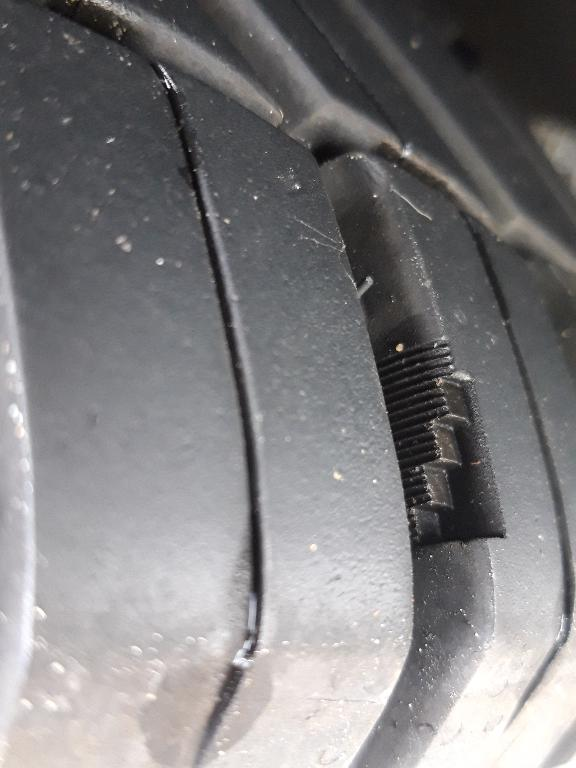temoin:90: (368, 331, 517, 560)
